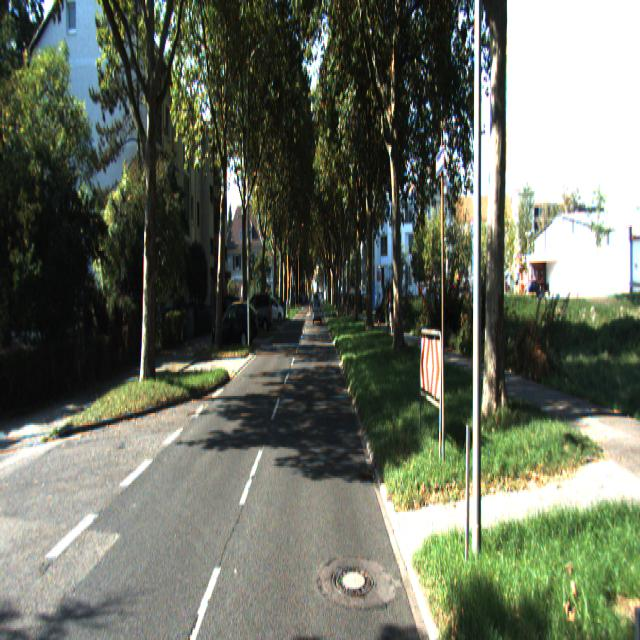Car: (214, 304, 254, 355)
